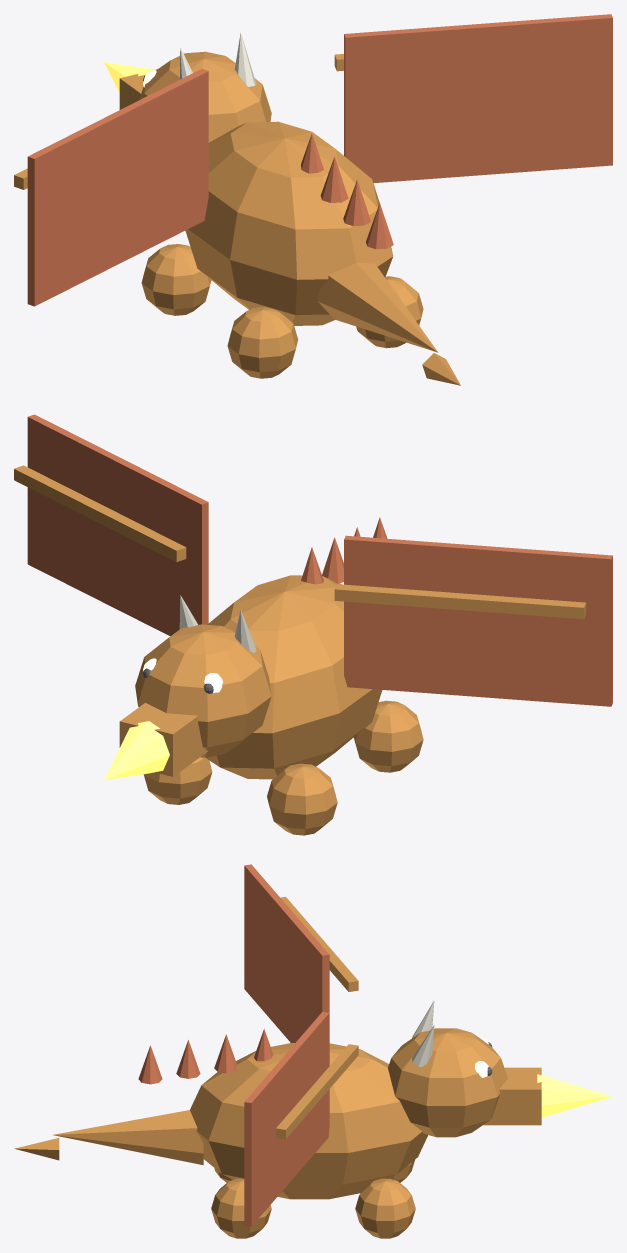
File: inferno_dragon.glb
3 renders of one model, top to bottom at view 1: azimuth 30°, elevation 25°; view 2: azimuth 150°, elevation 25°; view 3: azimuth 270°, elevation 25°, orthographic. The views are drawn at different scales.
Visible parts, largest first — view 1: inferno_dragon; view 2: inferno_dragon; view 3: inferno_dragon.
Part boxes in pixels (box(x1,y1,x2,y2)): inferno_dragon: box(14, 14, 612, 385); inferno_dragon: box(14, 414, 612, 835); inferno_dragon: box(14, 864, 612, 1238).
Size of the model in its own units: 3.73 by 1.65 by 3.95.
